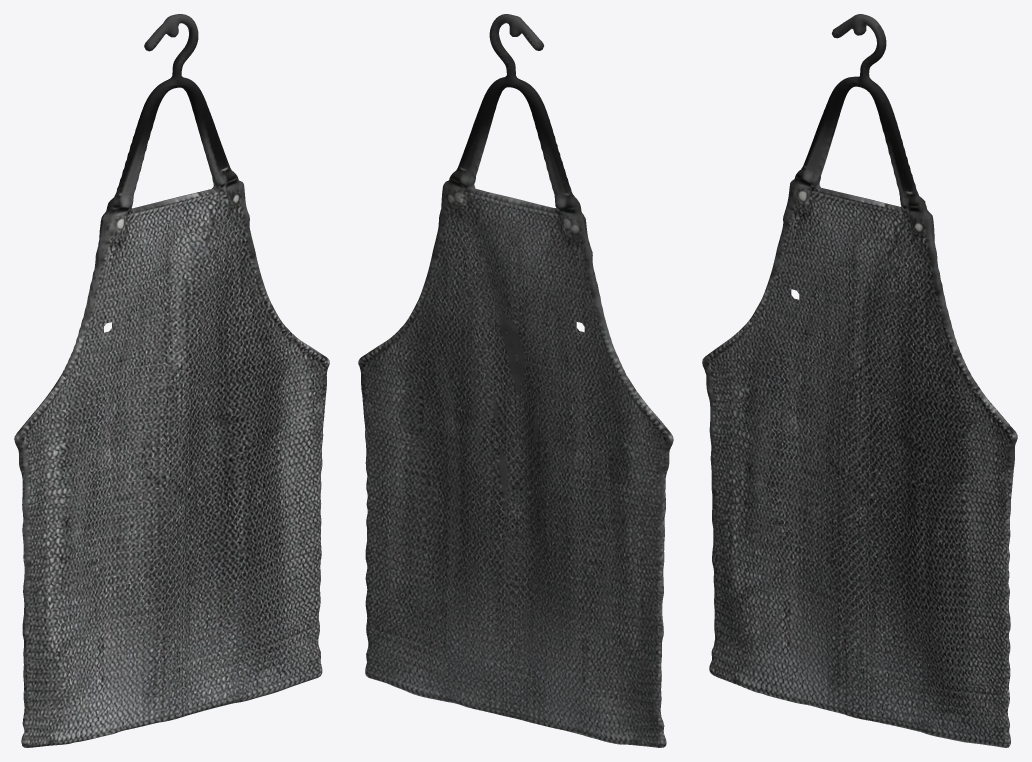
The model's file is apron-chainmail.glb.
3 views of the same model, side by side, from view 1: azimuth 30°, elevation 25°; view 2: azimuth 150°, elevation 25°; view 3: azimuth 330°, elevation 25° (orthographic).
Visible parts, largest first — view 1: cowninja-apron-chainmail; view 2: cowninja-apron-chainmail; view 3: cowninja-apron-chainmail.
Part boxes in pixels (x1,y1,x2,y2): cowninja-apron-chainmail: (14, 14, 329, 747); cowninja-apron-chainmail: (358, 14, 673, 747); cowninja-apron-chainmail: (702, 14, 1017, 747).
Size of the model in its own units: 0.3749 by 0.8 by 0.0173.
1 material, 1 textured.
